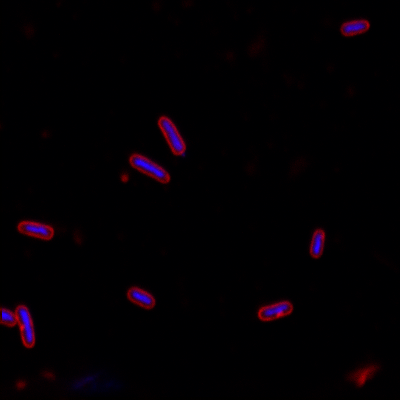Rifampicin: (127, 152, 172, 185), (157, 115, 187, 156), (12, 303, 37, 349), (256, 299, 295, 321), (125, 285, 157, 311), (15, 220, 54, 241), (306, 227, 328, 260), (339, 18, 371, 38)
